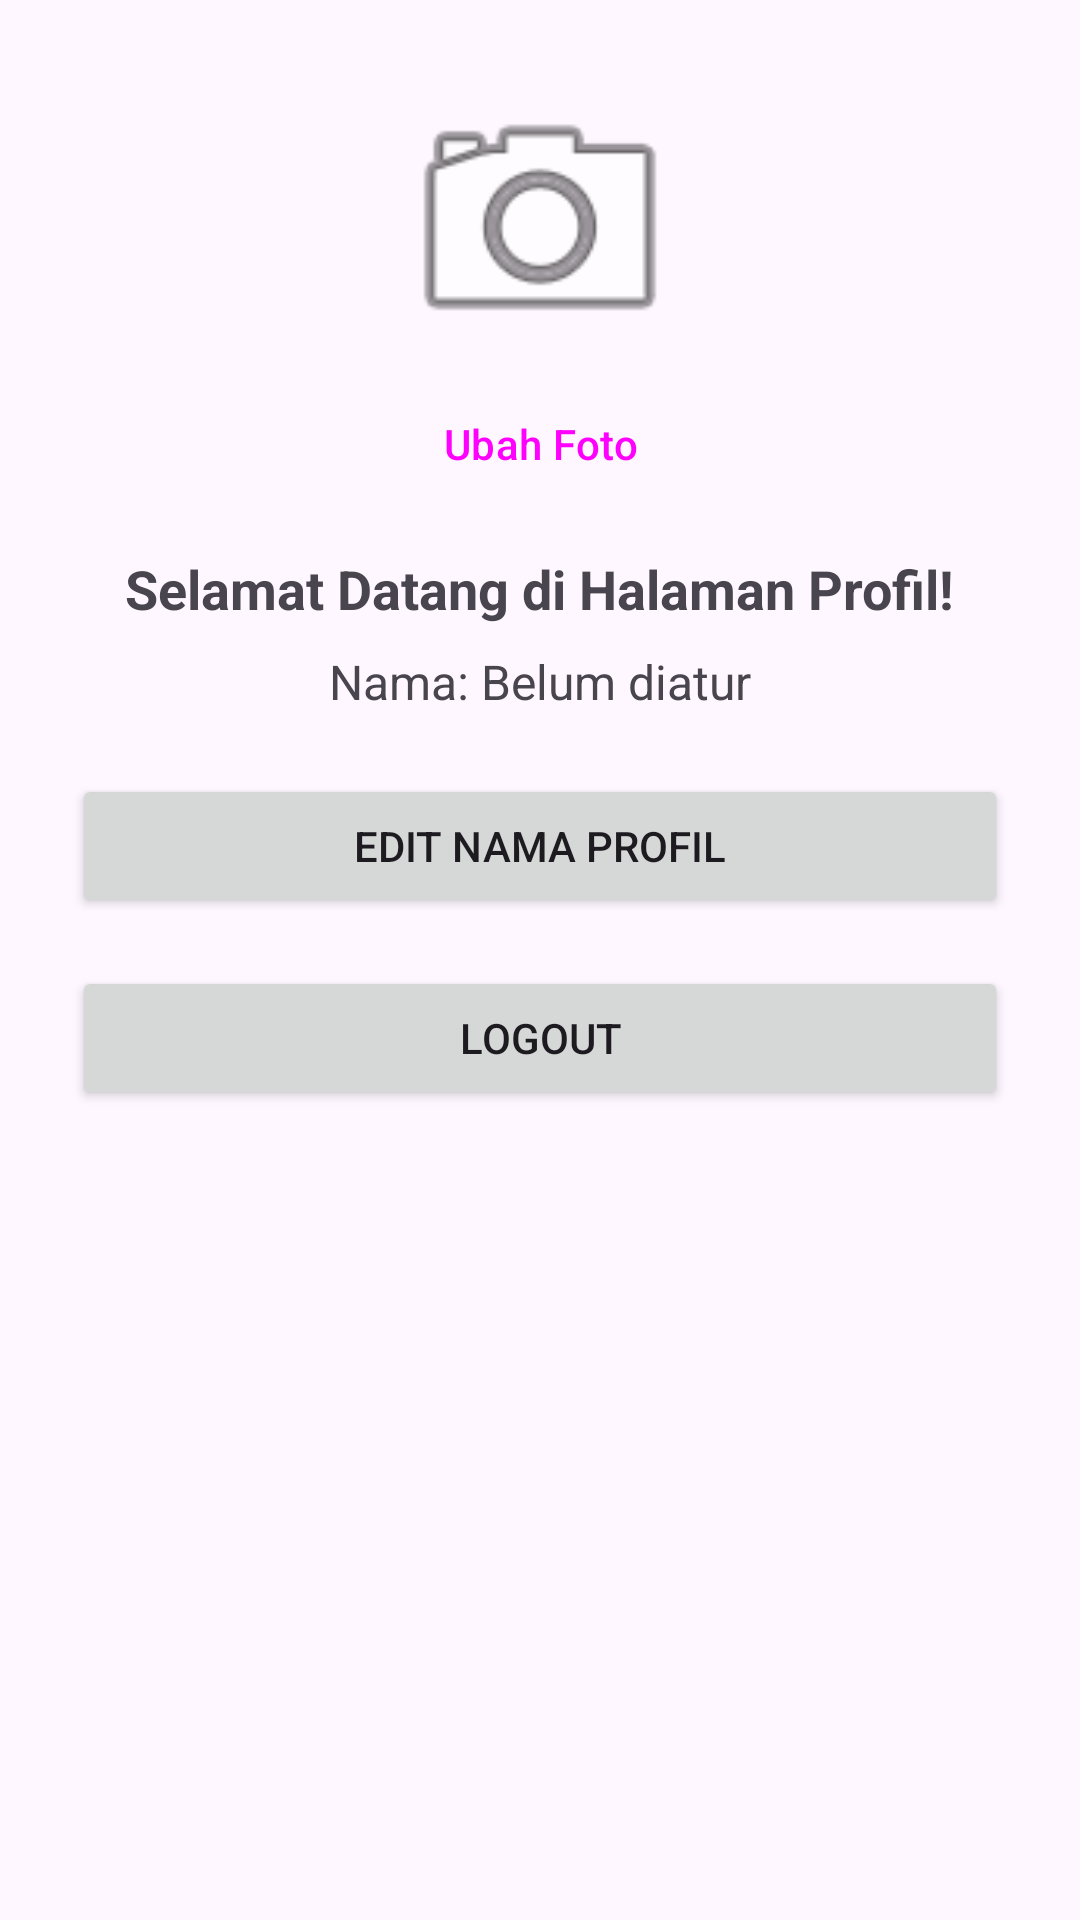

Named icons in this screenshot (1080w x 1920h) and their centers, (x,y):
camera: (540,217)
